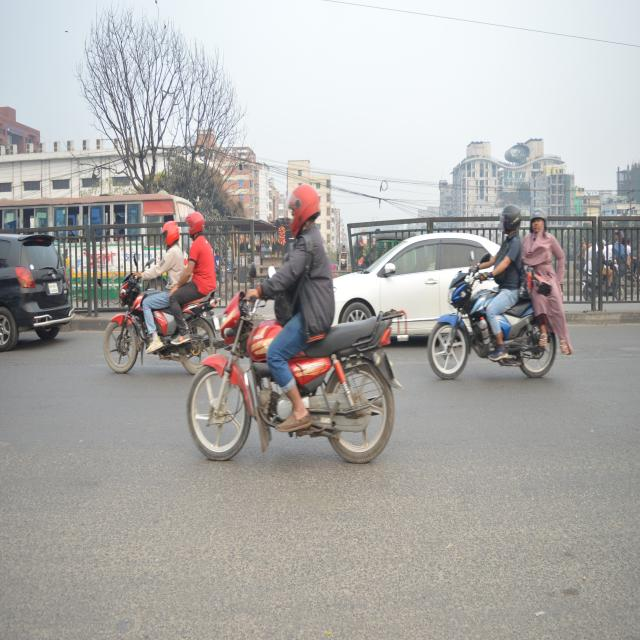bus: (0, 181, 207, 310)
car: (334, 222, 530, 338)
microbus: (0, 214, 80, 363)
motorbike: (185, 282, 408, 478), (423, 253, 561, 404), (90, 255, 233, 383)
